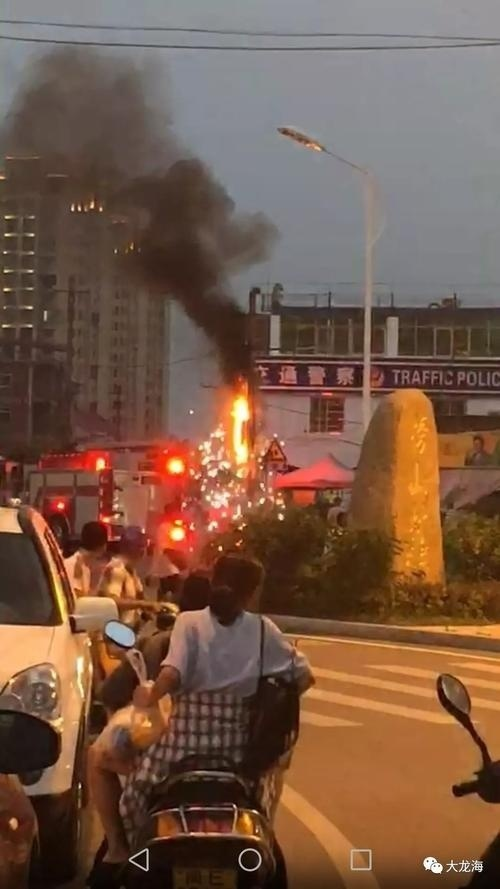fire: (171, 379, 255, 476)
